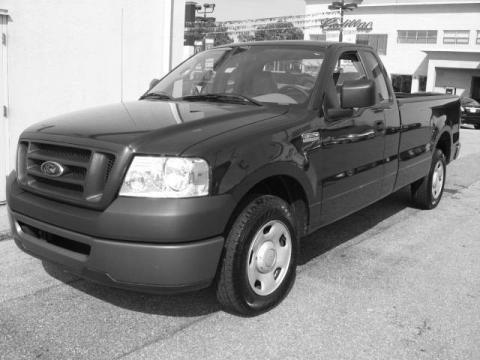car: (6, 41, 462, 319)
